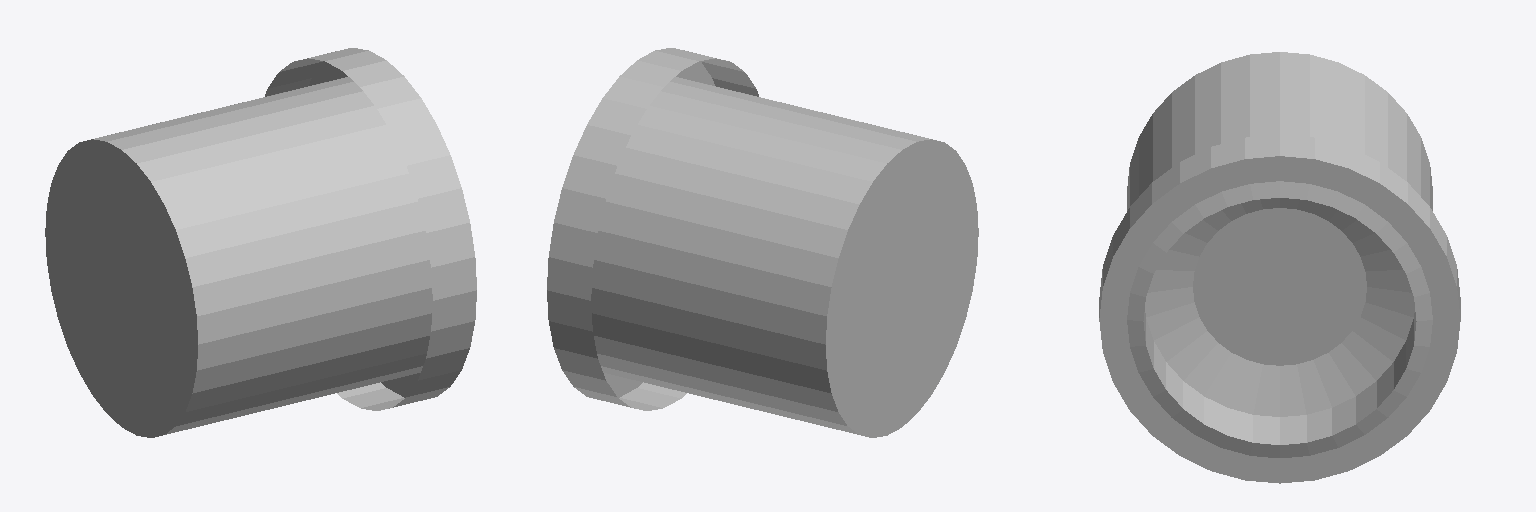
The model's file is drain pipe.obj.
3 renders of one model, left to right at view 1: azimuth 30°, elevation 25°; view 2: azimuth 150°, elevation 25°; view 3: azimuth 270°, elevation 25°, orthographic.
Parts seen in each view (by area): view 1: Cylinder.001; view 2: Cylinder.001; view 3: Cylinder.001.
Boxes of the visible parts, <box> form: Cylinder.001: <box>45,48,476,437</box>; Cylinder.001: <box>547,48,978,437</box>; Cylinder.001: <box>1099,52,1460,483</box>.
Bounding box in the file's own units: 0.5229 × 0.6096 × 0.6096.